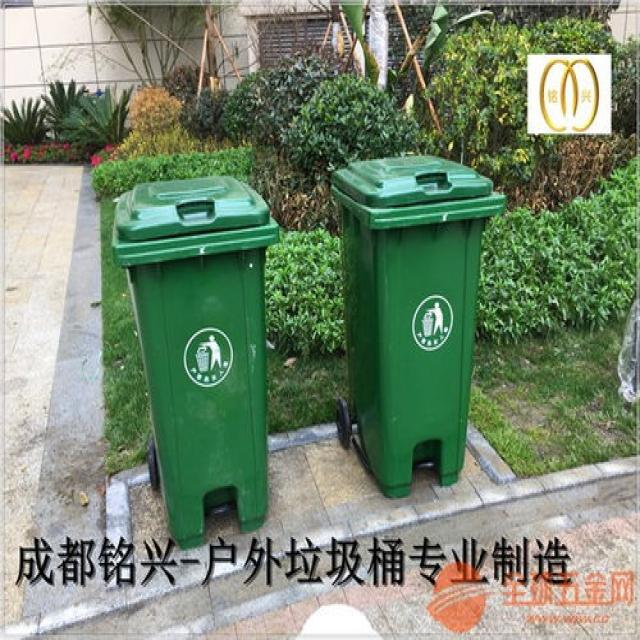garbage_bin: (111, 175, 279, 550), (329, 154, 503, 498)
